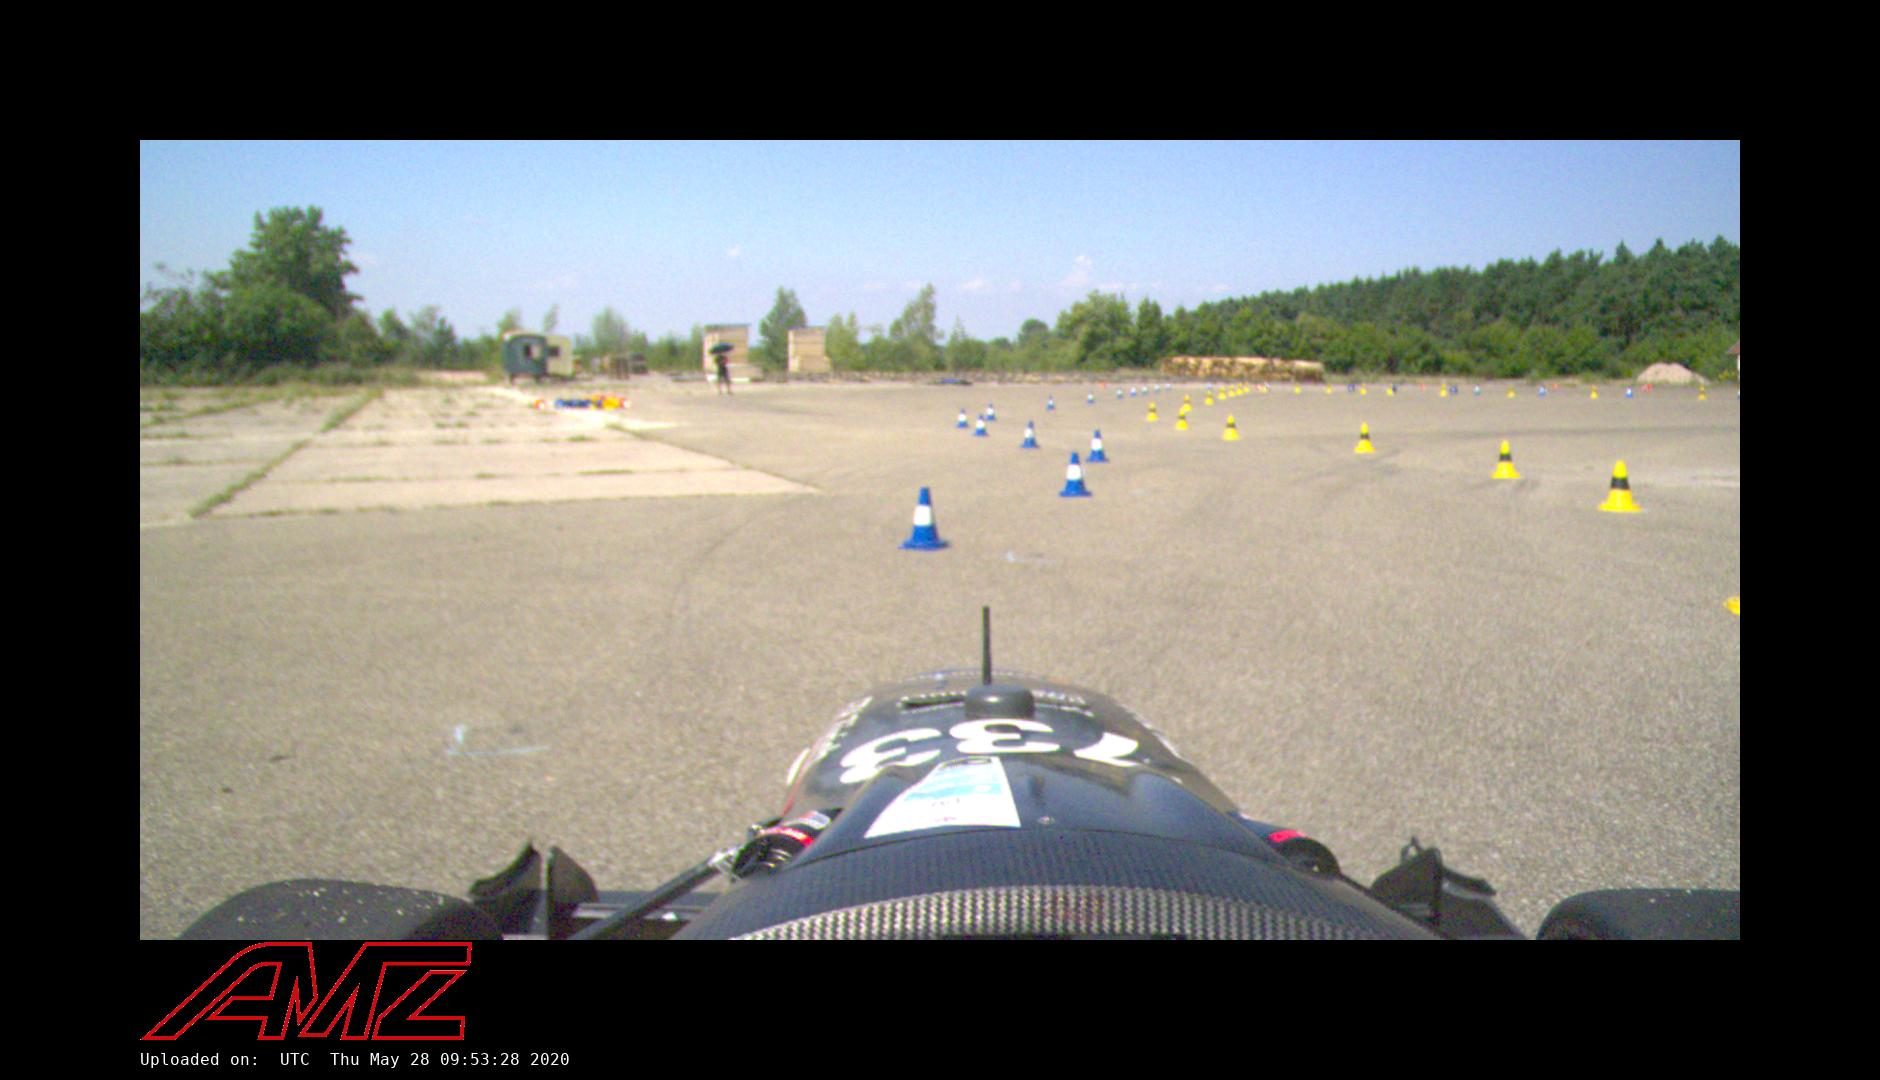blue_cone: (900, 484, 949, 552), (1057, 450, 1092, 497), (1088, 429, 1109, 461), (1021, 420, 1039, 448), (974, 413, 986, 437), (955, 408, 968, 428), (985, 402, 997, 420), (1045, 395, 1055, 410), (1087, 389, 1095, 403), (1116, 386, 1125, 398), (1129, 385, 1138, 397)
yellow_cone: (1599, 460, 1641, 514), (1493, 439, 1520, 479), (1353, 422, 1376, 453), (1221, 413, 1240, 441), (1172, 408, 1188, 430), (1144, 402, 1157, 421), (1181, 395, 1193, 410), (1203, 390, 1215, 404), (1218, 386, 1227, 399)
